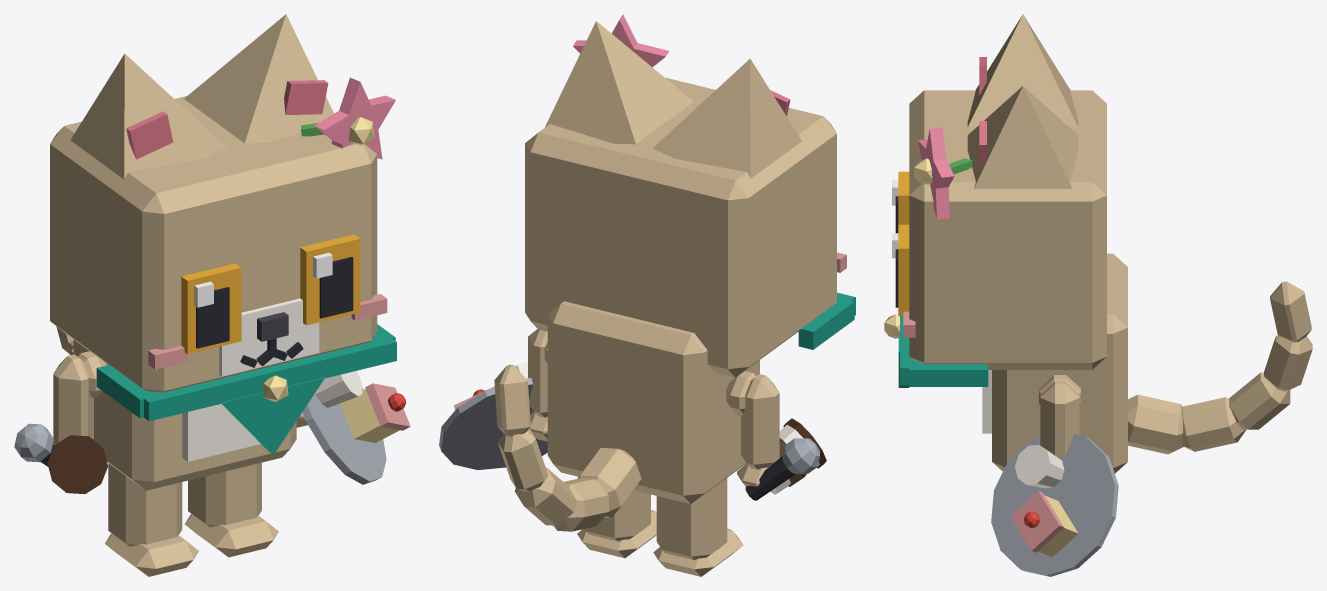
The model's file is CatCafe_Cat_Fennec_Work.glb.
The picture shows the model from 3 angles, left to right: view 1: azimuth 30°, elevation 25°; view 2: azimuth 150°, elevation 25°; view 3: azimuth 270°, elevation 25°; orthographic projection. The views are drawn at different scales.
Parts seen in each view (by area): view 1: CatCafe_Cat_Fennec_Work_Head, CatCafe_Cat_Fennec_Work_Body, CatCafe_Cat_Fennec_Work_Prop, CatCafe_Cat_Fennec_Work_EarL, CatCafe_Cat_Fennec_Work_EarR, CatCafe_Cat_Fennec_Work_Held_Waiter, CatCafe_Cat_Fennec_Work_LegB2, CatCafe_Cat_Fennec_Work_LegB1, CatCafe_Cat_Fennec_Work_Eye2, CatCafe_Cat_Fennec_Work_Eye1, CatCafe_Cat_Fennec_Work_Prop2, CatCafe_Cat_Fennec_Work_LegF2 (+2 smaller); view 2: CatCafe_Cat_Fennec_Work_Head, CatCafe_Cat_Fennec_Work_Body, CatCafe_Cat_Fennec_Work_Tail, CatCafe_Cat_Fennec_Work_EarL, CatCafe_Cat_Fennec_Work_EarR, CatCafe_Cat_Fennec_Work_LegB2, CatCafe_Cat_Fennec_Work_Held_Waiter, CatCafe_Cat_Fennec_Work_LegF2, CatCafe_Cat_Fennec_Work_LegB1, CatCafe_Cat_Fennec_Work_Held_Entertainer, CatCafe_Cat_Fennec_Work_LegF1, CatCafe_Cat_Fennec_Work_Prop (+2 smaller); view 3: CatCafe_Cat_Fennec_Work_Head, CatCafe_Cat_Fennec_Work_Held_Waiter, CatCafe_Cat_Fennec_Work_Body, CatCafe_Cat_Fennec_Work_Tail, CatCafe_Cat_Fennec_Work_EarL, CatCafe_Cat_Fennec_Work_EarR, CatCafe_Cat_Fennec_Work_Prop, CatCafe_Cat_Fennec_Work_LegF1, CatCafe_Cat_Fennec_Work_Prop2, CatCafe_Cat_Fennec_Work_Eye1, CatCafe_Cat_Fennec_Work_Eye2.
Boxes of the visible parts, bbox=[...] form: CatCafe_Cat_Fennec_Work_Head: bbox=[50, 96, 387, 392]; CatCafe_Cat_Fennec_Work_Body: bbox=[73, 340, 296, 490]; CatCafe_Cat_Fennec_Work_Prop: bbox=[96, 324, 396, 454]; CatCafe_Cat_Fennec_Work_EarL: bbox=[184, 14, 333, 143]; CatCafe_Cat_Fennec_Work_EarR: bbox=[70, 53, 226, 179]; CatCafe_Cat_Fennec_Work_Held_Waiter: bbox=[302, 371, 410, 484]; CatCafe_Cat_Fennec_Work_LegB2: bbox=[105, 463, 198, 576]; CatCafe_Cat_Fennec_Work_LegB1: bbox=[184, 462, 278, 557]; CatCafe_Cat_Fennec_Work_Eye2: bbox=[181, 263, 241, 354]; CatCafe_Cat_Fennec_Work_Eye1: bbox=[300, 234, 360, 325]; CatCafe_Cat_Fennec_Work_Prop2: bbox=[300, 77, 395, 159]; CatCafe_Cat_Fennec_Work_LegF2: bbox=[53, 354, 93, 444]; CatCafe_Cat_Fennec_Work_Head: bbox=[525, 77, 846, 377]; CatCafe_Cat_Fennec_Work_Body: bbox=[544, 301, 759, 503]; CatCafe_Cat_Fennec_Work_Tail: bbox=[494, 364, 641, 531]; CatCafe_Cat_Fennec_Work_EarL: bbox=[545, 21, 693, 144]; CatCafe_Cat_Fennec_Work_EarR: bbox=[653, 58, 801, 178]; CatCafe_Cat_Fennec_Work_LegB2: bbox=[653, 478, 743, 576]; CatCafe_Cat_Fennec_Work_Held_Waiter: bbox=[439, 362, 547, 469]; CatCafe_Cat_Fennec_Work_LegF2: bbox=[737, 374, 779, 486]; CatCafe_Cat_Fennec_Work_LegB1: bbox=[577, 490, 656, 558]; CatCafe_Cat_Fennec_Work_Held_Entertainer: bbox=[745, 438, 819, 500]; CatCafe_Cat_Fennec_Work_LegF1: bbox=[528, 329, 547, 441]; CatCafe_Cat_Fennec_Work_Prop: bbox=[798, 292, 855, 349]; CatCafe_Cat_Fennec_Work_Head: bbox=[903, 90, 1106, 369]; CatCafe_Cat_Fennec_Work_Held_Waiter: bbox=[991, 434, 1118, 576]; CatCafe_Cat_Fennec_Work_Body: bbox=[982, 253, 1127, 473]; CatCafe_Cat_Fennec_Work_Tail: bbox=[1128, 281, 1312, 454]; CatCafe_Cat_Fennec_Work_EarL: bbox=[967, 86, 1078, 188]; CatCafe_Cat_Fennec_Work_EarR: bbox=[967, 14, 1078, 127]; CatCafe_Cat_Fennec_Work_Prop: bbox=[884, 314, 988, 387]; CatCafe_Cat_Fennec_Work_LegF1: bbox=[1040, 381, 1079, 459]; CatCafe_Cat_Fennec_Work_Prop2: bbox=[914, 127, 972, 219]; CatCafe_Cat_Fennec_Work_Eye1: bbox=[892, 224, 909, 315]; CatCafe_Cat_Fennec_Work_Eye2: bbox=[892, 171, 909, 233].
Bounding box in the file's own units: 1.53 × 2.04 × 1.65.
1 material, 1 textured.
